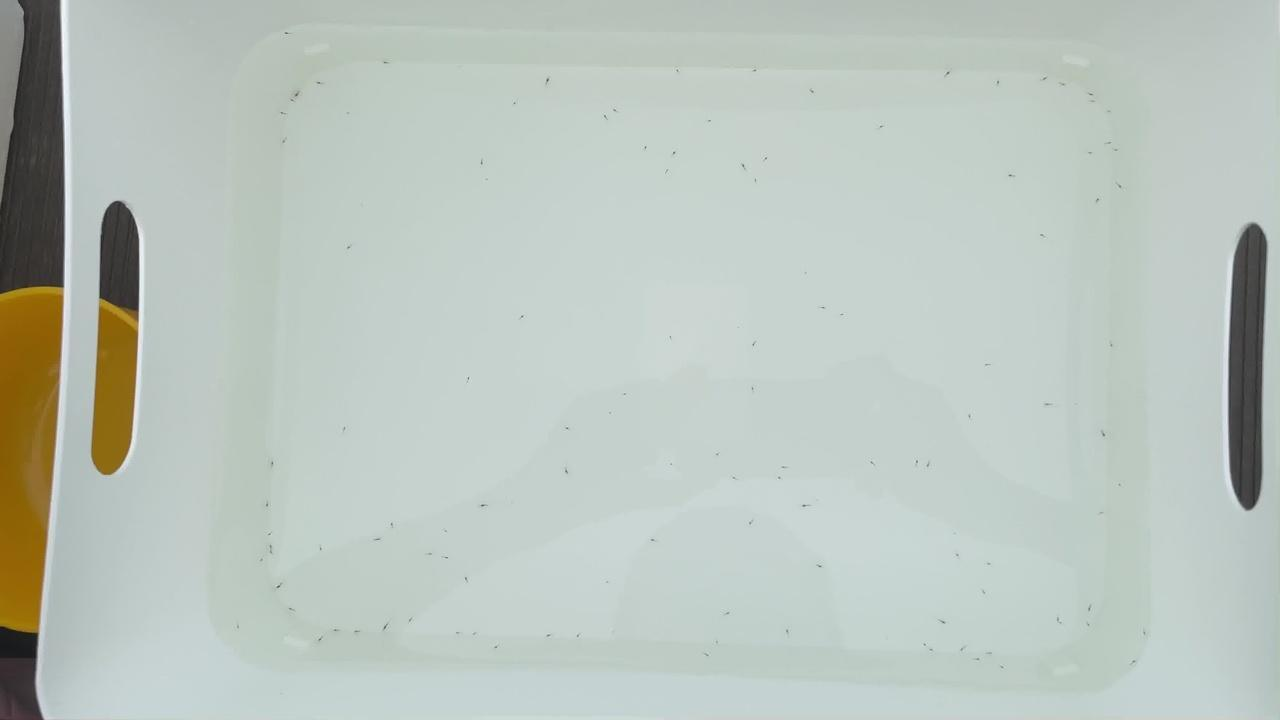shrimp: (280, 30, 292, 38), (315, 81, 327, 89), (294, 89, 306, 97), (288, 97, 300, 105), (279, 109, 291, 117), (278, 137, 290, 145), (342, 109, 354, 117), (380, 58, 392, 66), (341, 242, 353, 250), (482, 179, 494, 187), (476, 159, 488, 167), (510, 102, 522, 110), (542, 77, 554, 85), (601, 114, 613, 122), (610, 106, 622, 114), (642, 144, 654, 152), (661, 168, 673, 176), (668, 151, 680, 159), (704, 118, 716, 126), (673, 68, 685, 76), (752, 179, 764, 187), (737, 162, 749, 170), (760, 155, 772, 163), (809, 88, 821, 96), (750, 68, 762, 76), (877, 123, 889, 131), (940, 70, 952, 78), (992, 81, 1004, 89), (1041, 75, 1053, 83), (1057, 79, 1069, 87), (1084, 88, 1096, 96), (1087, 96, 1099, 104), (1104, 108, 1116, 116), (1105, 135, 1117, 143), (1110, 145, 1122, 153), (1113, 182, 1125, 190), (1093, 197, 1105, 205), (1085, 149, 1097, 157), (1003, 172, 1015, 180), (1037, 233, 1049, 241), (1107, 345, 1119, 353), (1101, 432, 1113, 440), (1042, 402, 1054, 410), (980, 360, 992, 368), (963, 417, 975, 425), (923, 464, 935, 472), (912, 457, 924, 465), (868, 459, 880, 467), (801, 502, 813, 510), (814, 564, 826, 572), (779, 629, 791, 637), (919, 641, 931, 649), (927, 650, 939, 658), (937, 620, 949, 628), (957, 645, 969, 653), (969, 657, 981, 665), (984, 650, 996, 658), (997, 665, 1009, 673), (1054, 612, 1066, 620), (1055, 618, 1067, 626), (1084, 604, 1096, 612), (1084, 620, 1096, 628), (1126, 658, 1138, 666), (1138, 630, 1150, 638), (1094, 510, 1106, 518), (1114, 481, 1126, 489), (979, 588, 991, 596), (985, 560, 997, 568), (951, 551, 963, 559), (946, 531, 958, 539), (701, 653, 713, 661), (711, 639, 723, 647), (720, 611, 732, 619), (745, 520, 757, 528), (775, 474, 787, 482), (779, 462, 791, 470), (730, 476, 742, 484), (711, 451, 723, 459), (647, 537, 659, 545), (666, 461, 678, 469), (745, 386, 757, 394), (748, 340, 760, 348), (815, 303, 827, 311), (836, 312, 848, 320), (798, 270, 810, 278), (667, 333, 679, 341), (516, 315, 528, 323), (618, 391, 630, 399), (604, 411, 616, 419), (563, 424, 575, 432), (561, 468, 573, 476), (462, 374, 474, 382), (340, 426, 352, 434), (268, 460, 280, 468), (260, 501, 272, 509), (266, 529, 278, 537), (265, 541, 277, 549), (266, 548, 278, 556), (256, 556, 268, 564), (278, 580, 290, 588), (233, 625, 245, 633), (286, 605, 298, 613), (312, 637, 324, 645), (331, 628, 343, 636), (352, 631, 364, 639), (379, 623, 391, 631), (401, 616, 413, 624), (455, 630, 467, 638), (467, 630, 479, 638), (490, 645, 502, 653), (541, 632, 553, 640), (572, 632, 584, 640), (604, 577, 616, 585), (461, 573, 473, 581), (441, 555, 453, 563), (422, 552, 434, 560), (441, 527, 453, 535), (388, 521, 400, 529), (374, 535, 386, 543), (316, 546, 328, 554), (477, 501, 489, 509)
